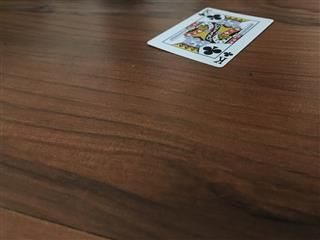KingOfClubs: (145, 6, 274, 67)
